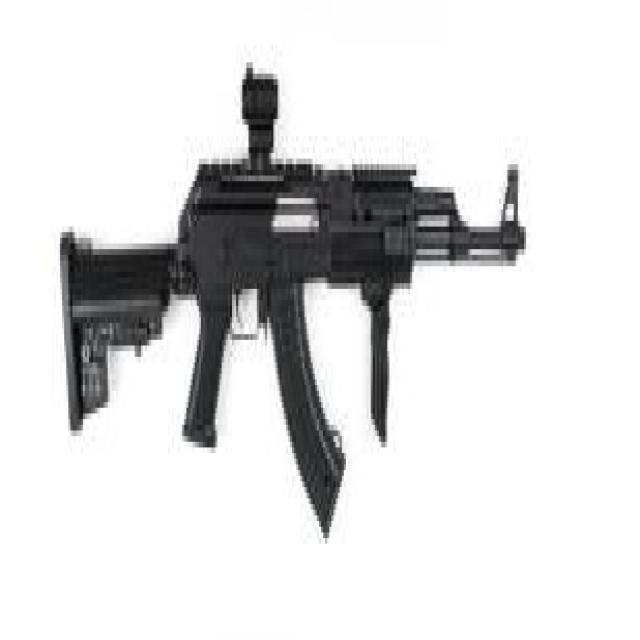rifle: (60, 51, 530, 575)
